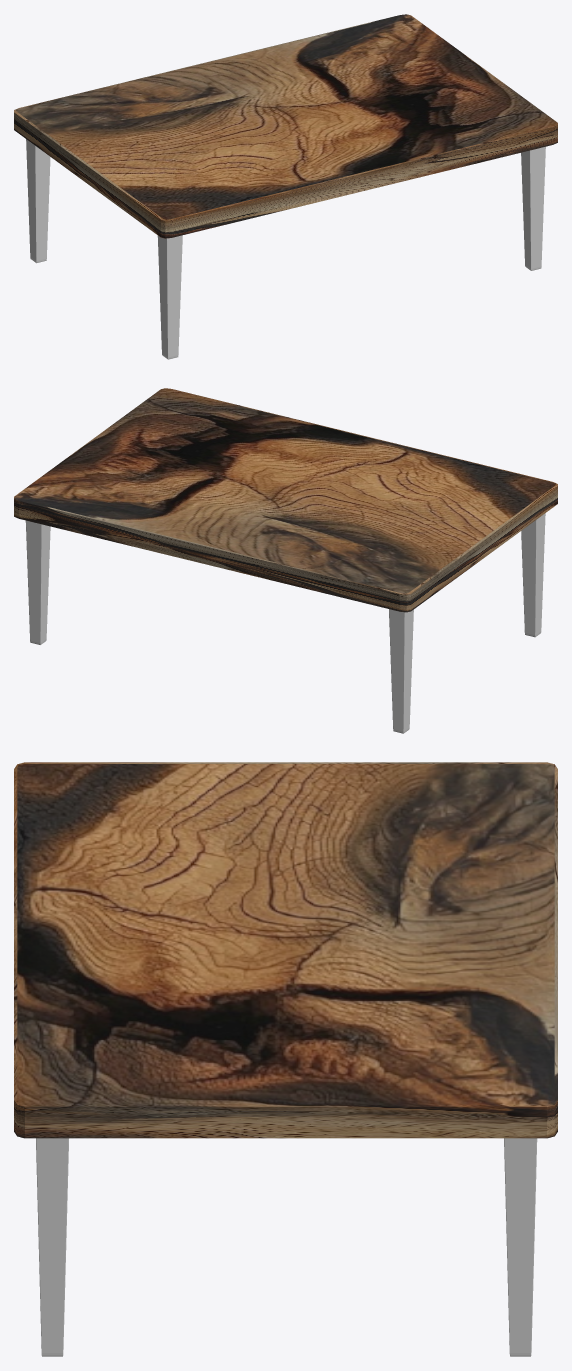
Rendered from Mesa_Comedor.fbx.
3 views of the same model, one above another, from view 1: azimuth 30°, elevation 25°; view 2: azimuth 150°, elevation 25°; view 3: azimuth 270°, elevation 25° (orthographic). The views are drawn at different scales.
Parts seen in each view (by area): view 1: Tabla principal, Pata 1, Pata 4, Pata 2; view 2: Tabla principal, Pata 2, Pata 3, Pata 1; view 3: Tabla principal, Pata 3, Pata 4.
Boxes of the visible parts, x1,y1,x2,y2 form: Tabla principal: (14,14,557,238); Pata 1: (157,235,182,359); Pata 4: (521,146,545,270); Pata 2: (26,139,50,263); Tabla principal: (14,388,557,612); Pata 2: (389,609,413,733); Pata 3: (25,520,50,644); Pata 1: (521,513,545,637); Tabla principal: (14,762,557,1138); Pata 3: (504,1138,537,1356); Pata 4: (36,1138,68,1356).
Bounding box in the file's own units: 226 × 80 × 151.
Materials: 2 (1 with a texture image).
